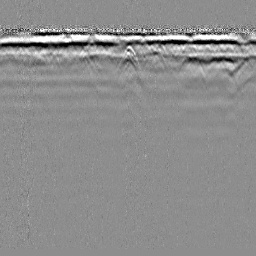cavity: (116, 44, 140, 69)
